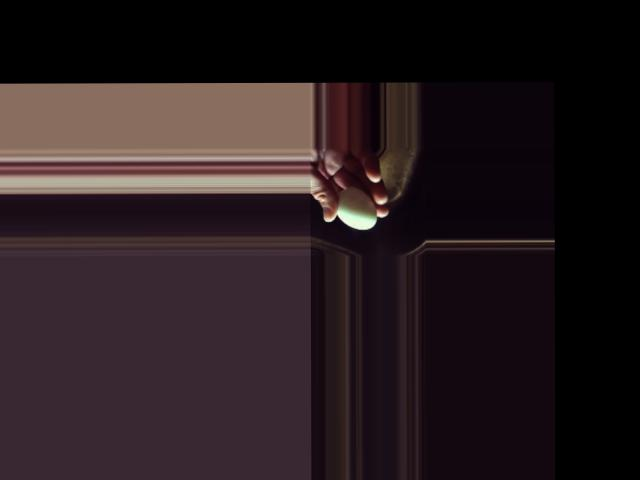egg: (335, 187, 375, 229)
